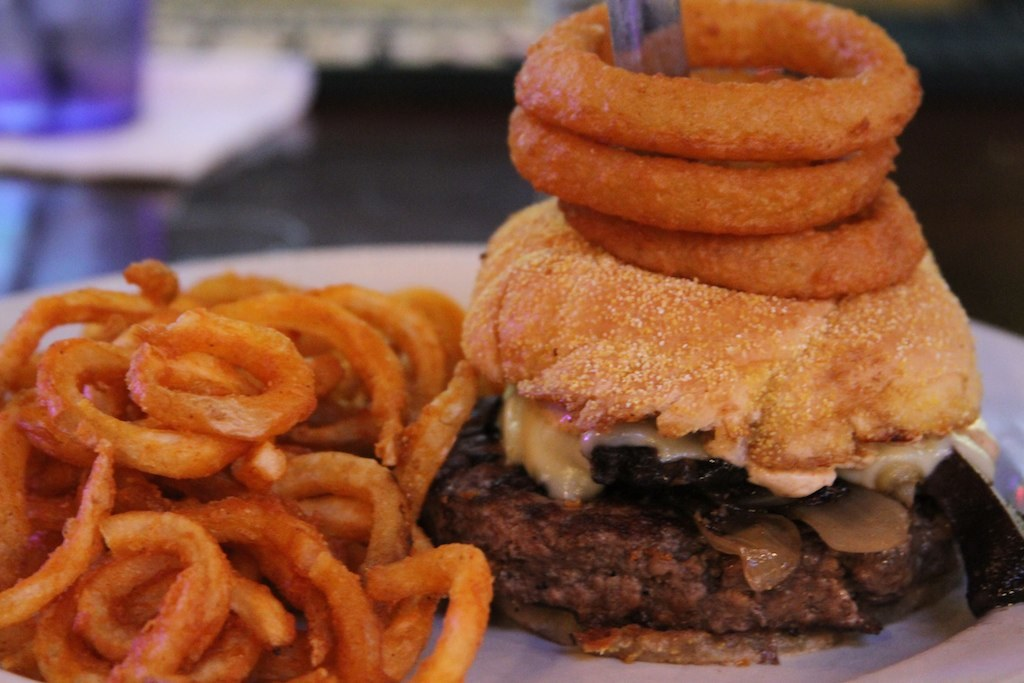Hamburger: (426, 0, 1000, 660)
